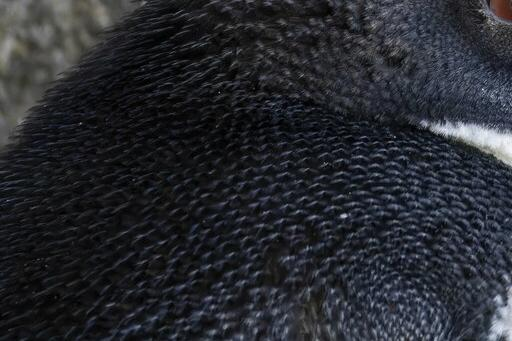Southern Rockhopper Penguin: (5, 0, 512, 340)
